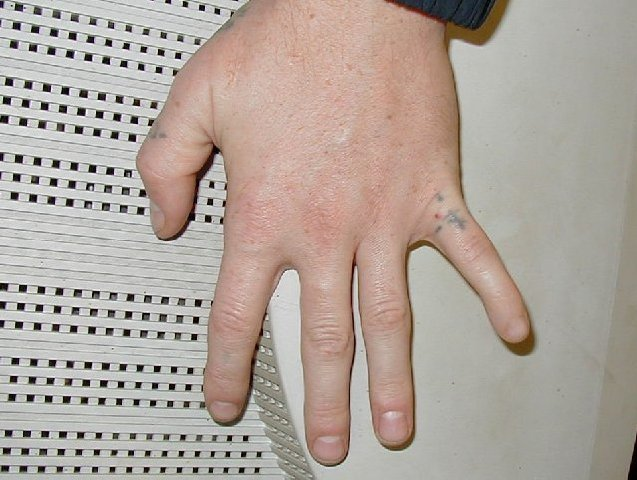tatu9_krest: (446, 206, 476, 239)
